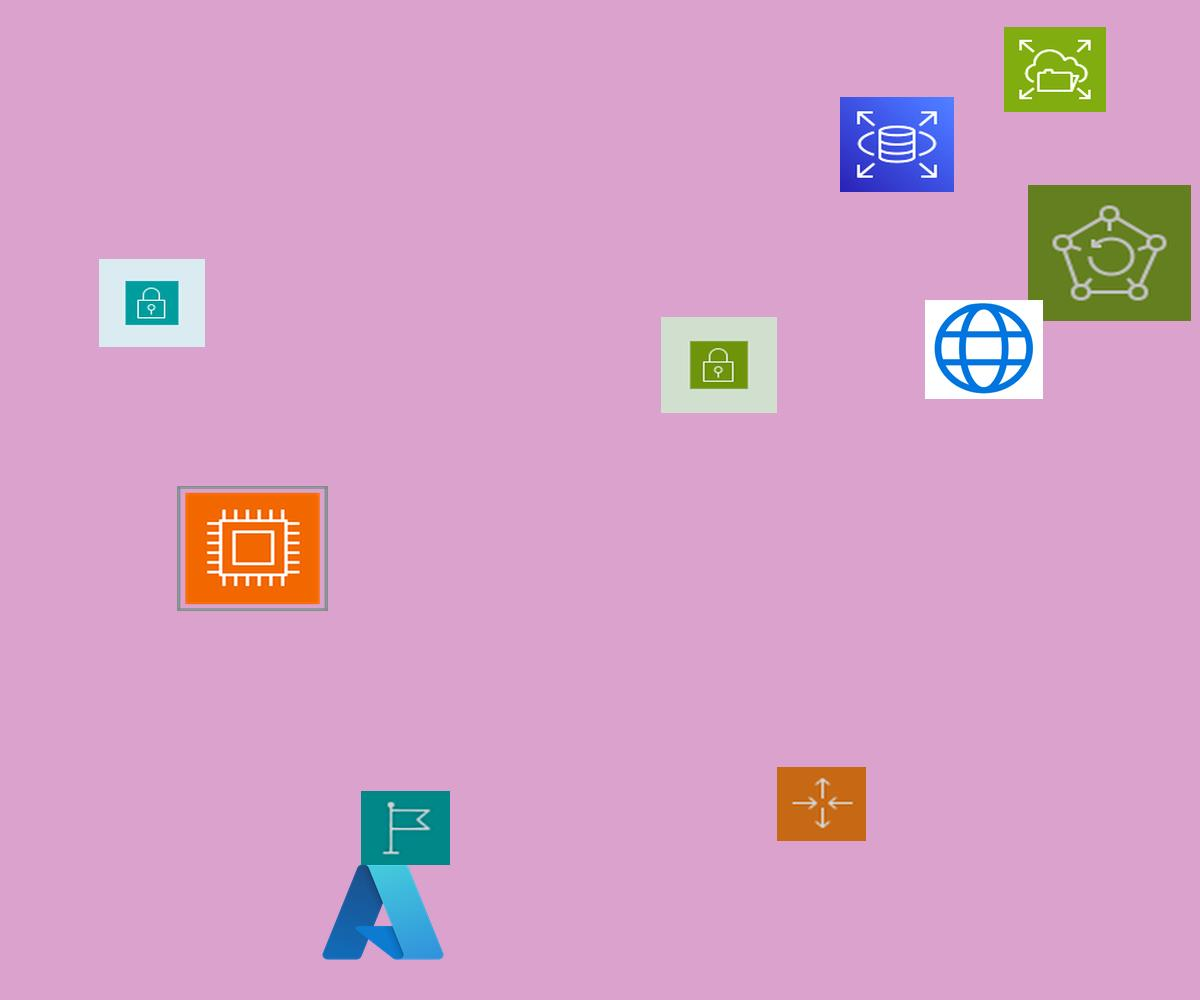AWS-Backup: (1028, 185, 1191, 321)
AWS-Category_Compute: (177, 486, 328, 611)
AWS-EFS: (1004, 27, 1106, 112)
AWS-Private-subnet: (99, 259, 205, 347)
AWS-Public-subnet: (661, 317, 777, 413)
AWS-RDS: (840, 97, 954, 192)
AWS-Region: (361, 791, 450, 865)
AWS-Scaling-group: (777, 767, 866, 841)
Azure_http: (925, 300, 1043, 399)
Azure_services: (317, 857, 449, 967)
